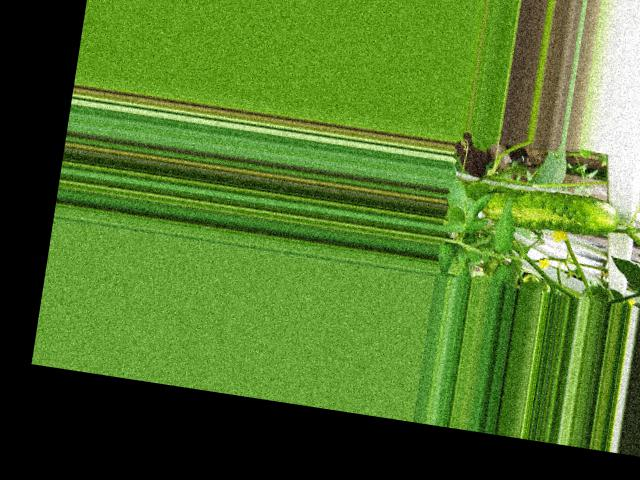cucumber: (482, 181, 622, 240)
